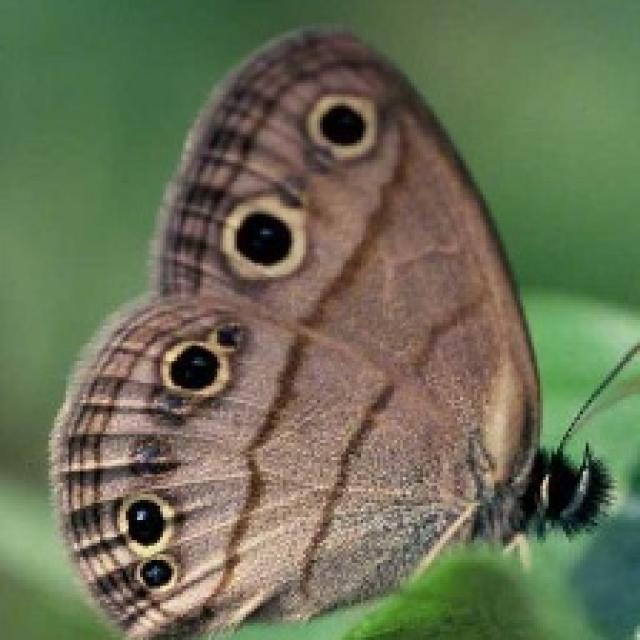butterfly: (43, 23, 637, 637)
